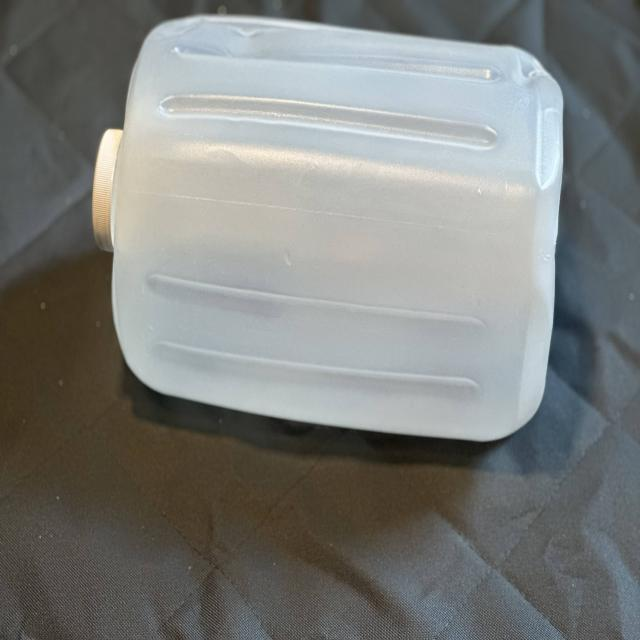milk-jug: (96, 16, 556, 444)
